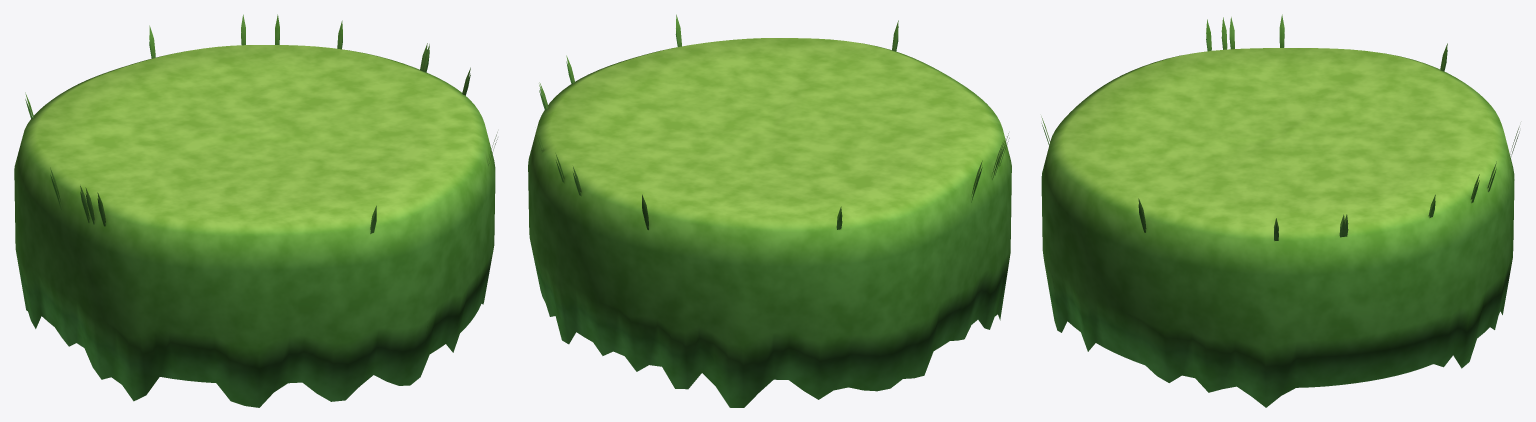
Rendered from Env_GrassCap_1.glb.
The picture shows the model from 3 angles, left to right: view 1: azimuth 30°, elevation 25°; view 2: azimuth 150°, elevation 25°; view 3: azimuth 270°, elevation 25°; orthographic projection.
Parts seen in each view (by area): view 1: Env_GrassCap_1.001; view 2: Env_GrassCap_1.001; view 3: Env_GrassCap_1.001.
Boxes of the visible parts, bbox=[...] form: Env_GrassCap_1.001: bbox=[14, 14, 497, 407]; Env_GrassCap_1.001: bbox=[528, 14, 1011, 407]; Env_GrassCap_1.001: bbox=[1041, 14, 1519, 407].
Size of the model in its own units: 2 by 0.9405 by 1.99.
Materials: 1 (1 with a texture image).
